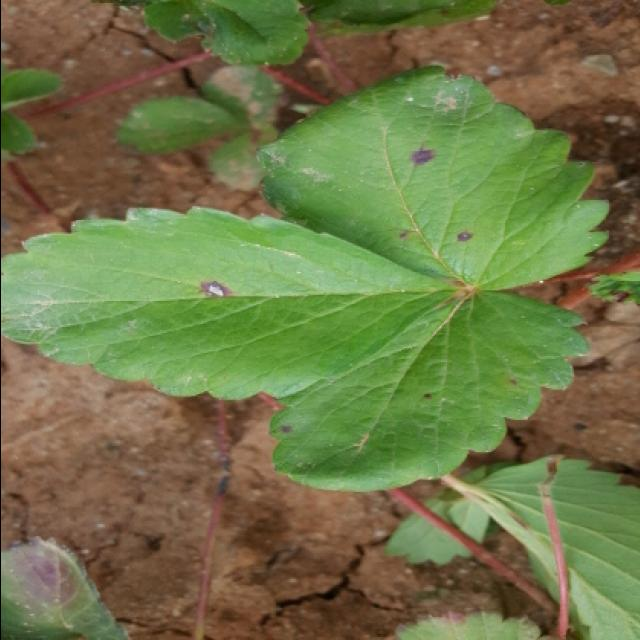Leaf Spot: (2, 204, 470, 400), (252, 65, 612, 290), (267, 291, 593, 493), (207, 121, 279, 192)
